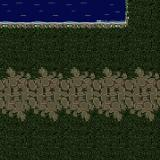Interaction: (0, 20, 141, 38), (120, 0, 141, 20)
Slow: (0, 0, 124, 21)
